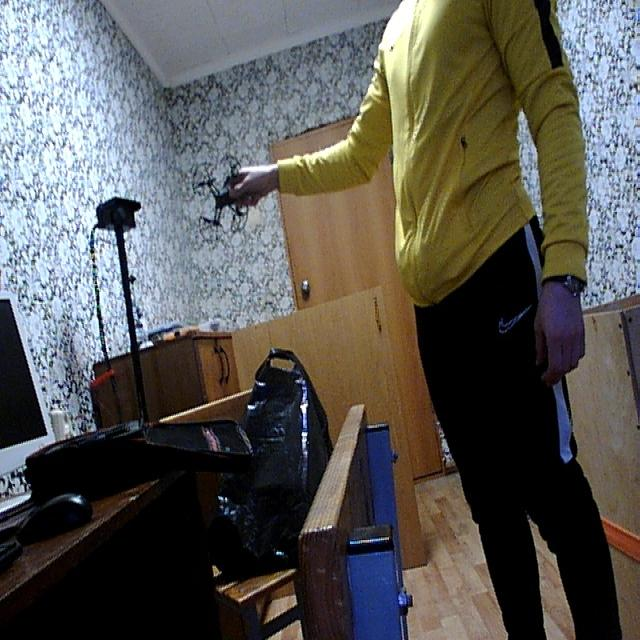drone: (185, 149, 261, 239)
